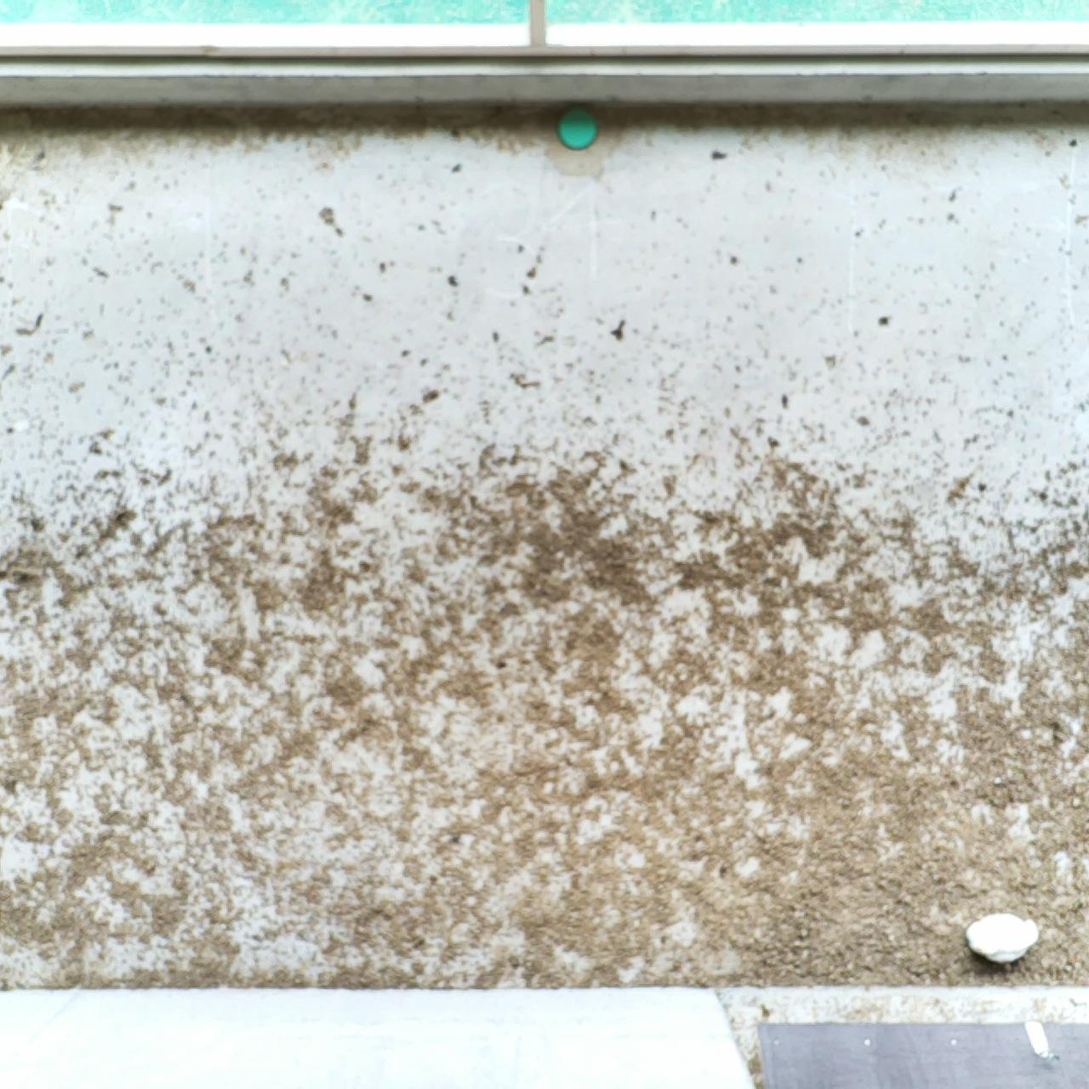chicken: (959, 905, 1042, 973)
